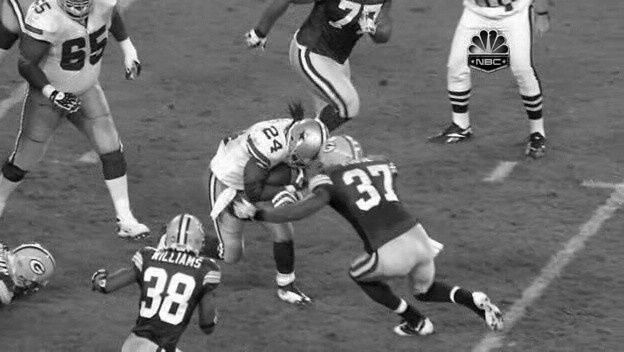person: (289, 121, 323, 164), (288, 121, 322, 164), (290, 121, 324, 164), (289, 120, 323, 163), (289, 122, 323, 165)
target_negative: (95, 223, 499, 324), (15, 41, 145, 283), (120, 170, 418, 181), (426, 324, 528, 350), (340, 86, 360, 139), (442, 80, 529, 82)
